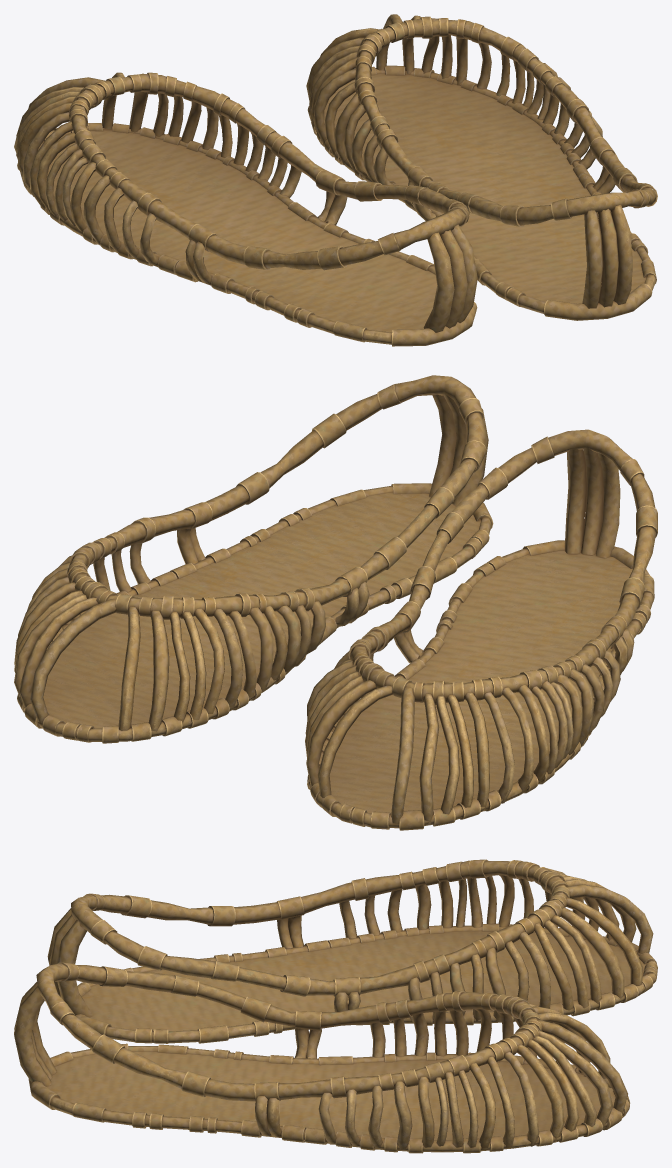
File: shoes.fbx
The picture shows the model from 3 angles, top to bottom: view 1: azimuth 30°, elevation 25°; view 2: azimuth 150°, elevation 25°; view 3: azimuth 270°, elevation 25°; orthographic projection. The views are drawn at different scales.
Visible parts, largest first — view 1: shoes; view 2: shoes; view 3: shoes.
Boxes of the visible parts, x1,y1,x2,y2 form: shoes: (14,14,657,346); shoes: (14,375,657,830); shoes: (14,859,657,1153).
Bounding box in the file's own units: 43.9 × 10.52 × 52.44.
1 material, 1 textured.
